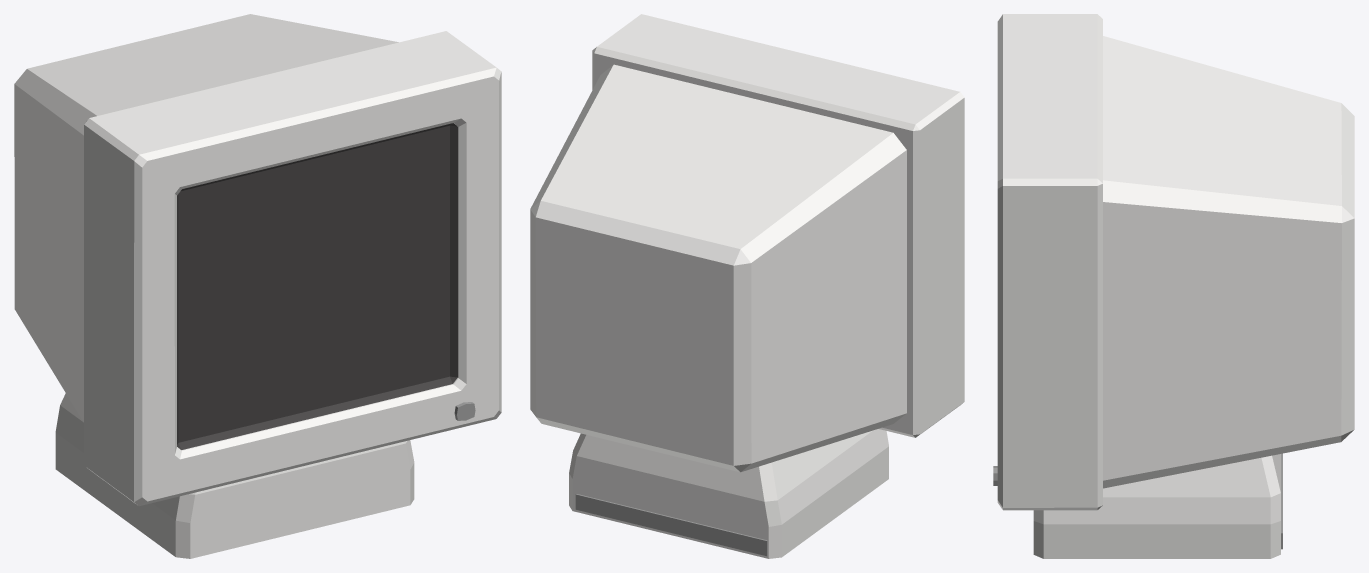
Rendered from Monitor.fbx.
The picture shows the model from 3 angles, left to right: view 1: azimuth 30°, elevation 25°; view 2: azimuth 150°, elevation 25°; view 3: azimuth 270°, elevation 25°; orthographic projection. The views are drawn at different scales.
Parts seen in each view (by area): view 1: Monitor; view 2: Monitor; view 3: Monitor.
Boxes of the visible parts, x1=… form: Monitor: x1=14, y1=14, x2=501, y2=558; Monitor: x1=530, y1=14, x2=964, y2=558; Monitor: x1=993, y1=14, x2=1354, y2=558.
Bounding box in the file's own units: 48.86 × 44.1 × 54.97.
